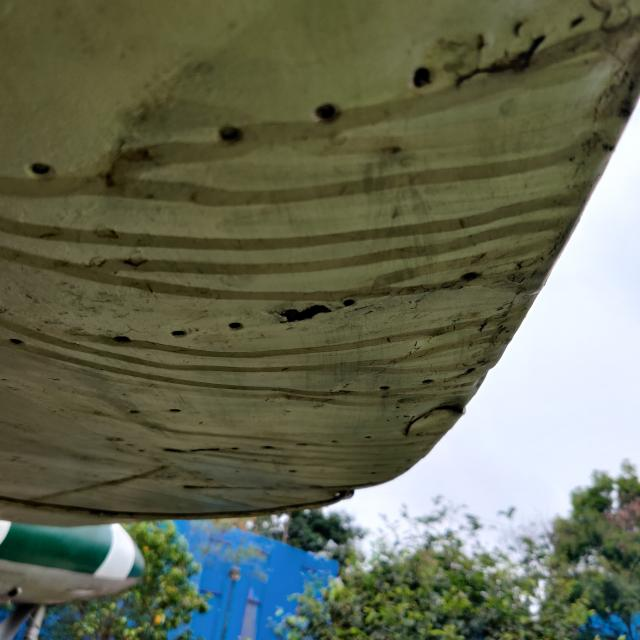crack: (256, 282, 366, 341)
